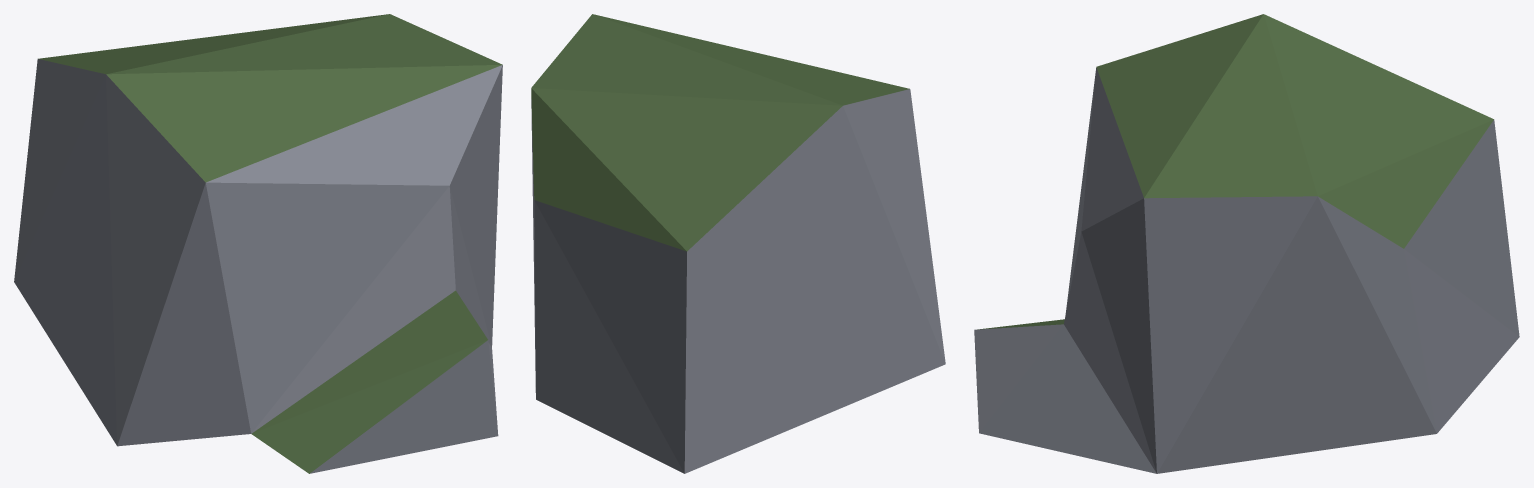
File: Rock_Moss_6.lod2.glb
3 views of the same model, side by side, from view 1: azimuth 30°, elevation 25°; view 2: azimuth 150°, elevation 25°; view 3: azimuth 270°, elevation 25° (orthographic). The views are drawn at different scales.
Parts seen in each view (by area): view 1: Rock_Moss_6; view 2: Rock_Moss_6; view 3: Rock_Moss_6.
Part boxes in pixels (x1,y1,x2,y2): Rock_Moss_6: [14, 14, 502, 473]; Rock_Moss_6: [531, 14, 945, 473]; Rock_Moss_6: [974, 14, 1519, 473].
Bounding box in the file's own units: 0.894 × 0.6972 × 1.13.
